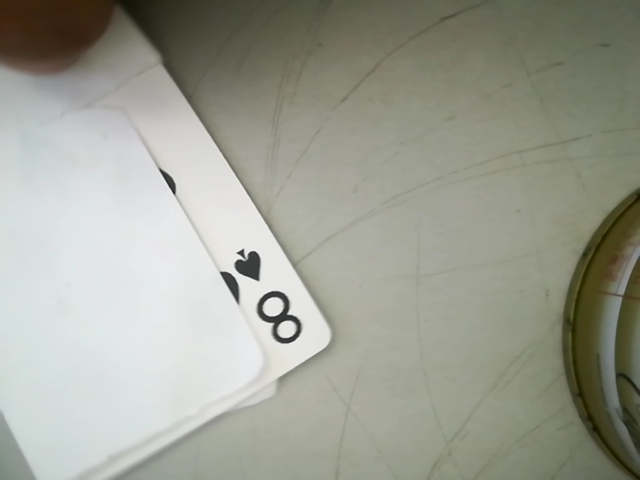ht 8: (224, 244, 314, 353)
